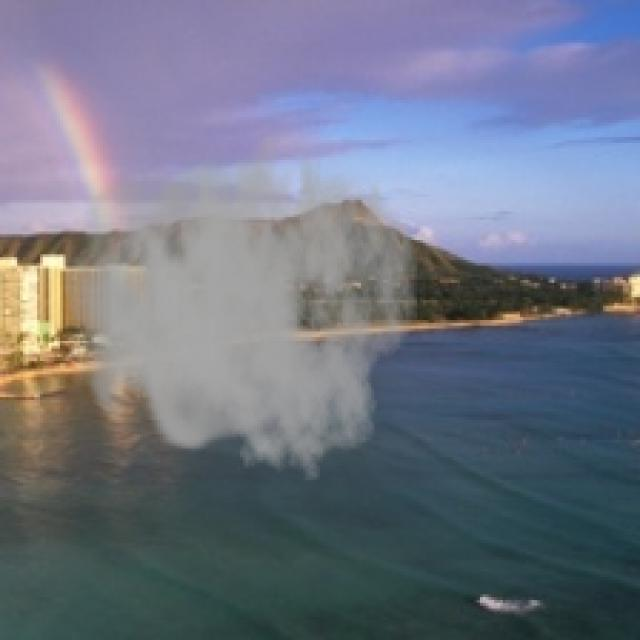smoke: (63, 114, 420, 483)
